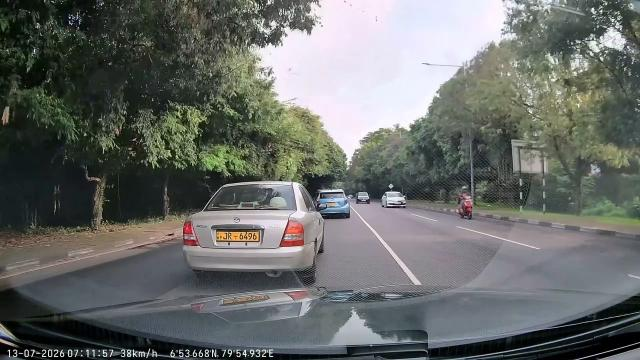number plate: (212, 224, 266, 252)
